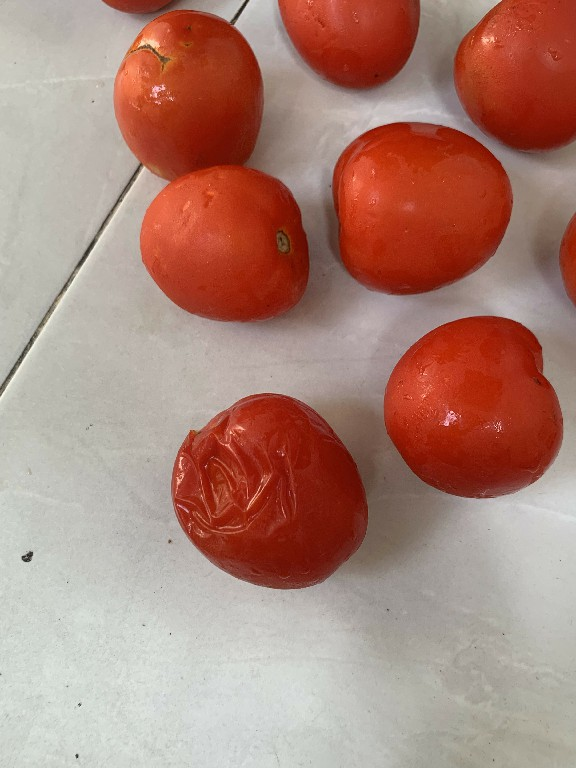NG: (165, 385, 372, 605), (108, 6, 271, 166)
OK: (371, 310, 573, 511), (324, 123, 524, 297), (136, 161, 315, 328)
